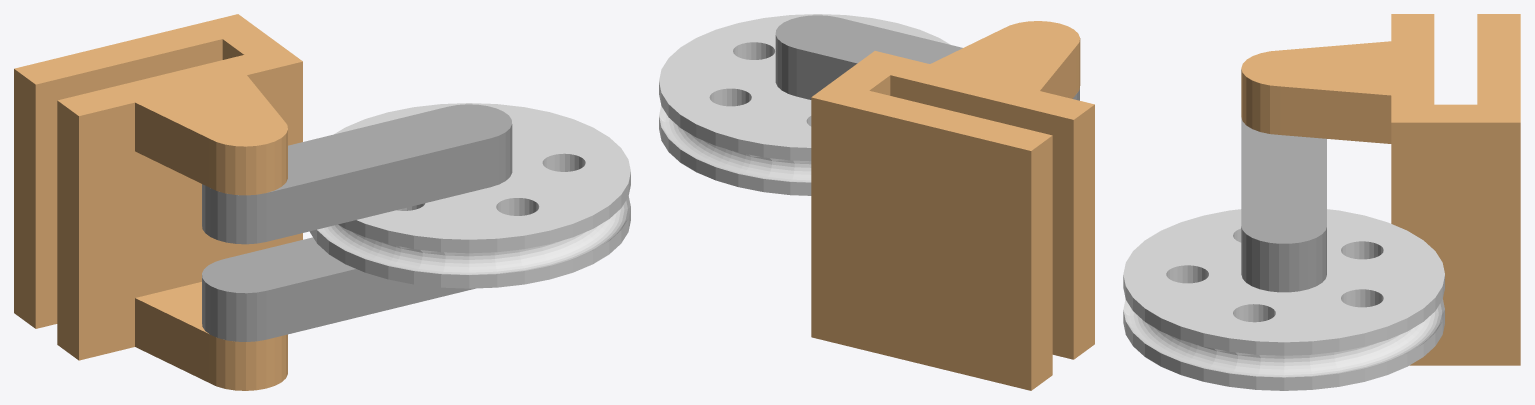
Rendered from pulley.gltf.
The picture shows the model from 3 angles, left to right: view 1: azimuth 30°, elevation 25°; view 2: azimuth 150°, elevation 25°; view 3: azimuth 270°, elevation 25°; orthographic projection.
Parts seen in each view (by area): view 1: b_pulley_rail_support_001_, b_pulley_wheel_001_, b_pulley_bars_001_001, b_pulley_bars_001_; view 2: b_pulley_rail_support_001_, b_pulley_wheel_001_, b_pulley_bars_001_001; view 3: b_pulley_rail_support_001_, b_pulley_wheel_001_, b_pulley_bars_001_001.
Part boxes in pixels (left/top/right/bottom): b_pulley_rail_support_001_: left=14, top=14, right=302, bottom=390; b_pulley_wheel_001_: left=309, top=103, right=630, bottom=288; b_pulley_bars_001_001: left=202, top=104, right=512, bottom=244; b_pulley_bars_001_: left=202, top=237, right=475, bottom=341; b_pulley_rail_support_001_: left=811, top=21, right=1094, bottom=390; b_pulley_wheel_001_: left=659, top=14, right=950, bottom=195; b_pulley_bars_001_001: left=775, top=15, right=1079, bottom=100; b_pulley_rail_support_001_: left=1241, top=14, right=1520, bottom=365; b_pulley_wheel_001_: left=1123, top=209, right=1444, bottom=390; b_pulley_bars_001_001: left=1241, top=117, right=1326, bottom=292.
Size of the model in its own units: 51 by 25 by 37.04.
